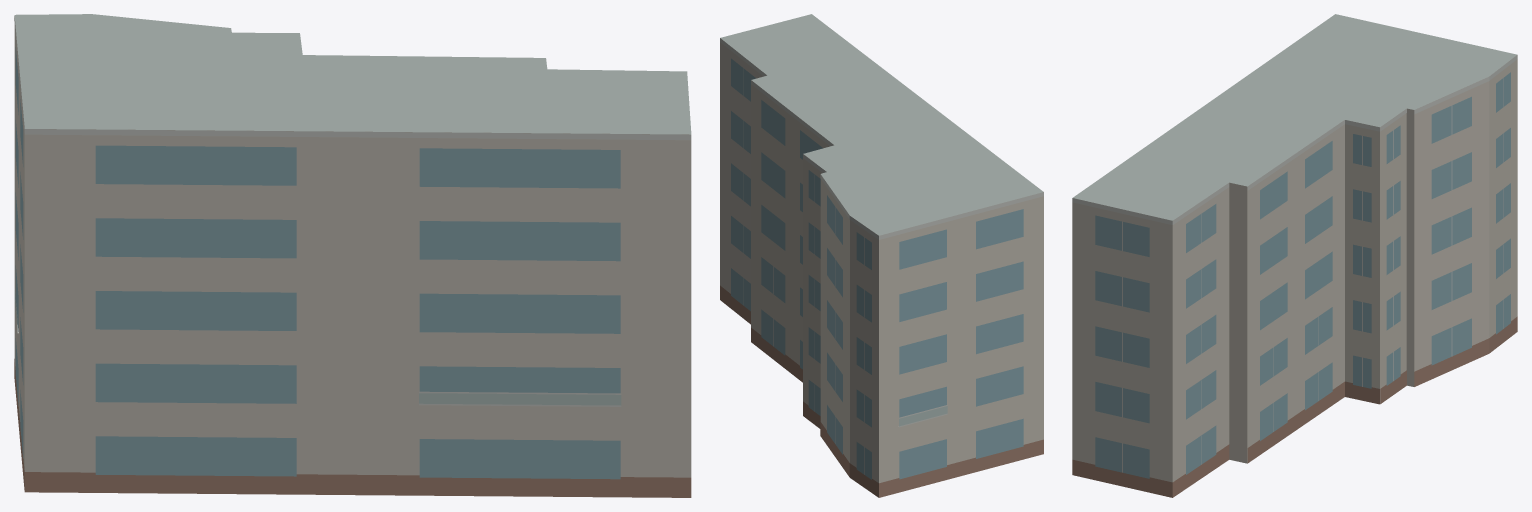
The model's file is survey-upis-32595631.glb.
The picture shows the model from 3 angles, left to right: view 1: azimuth 30°, elevation 25°; view 2: azimuth 150°, elevation 25°; view 3: azimuth 270°, elevation 25°; orthographic projection. The views are drawn at different scales.
Parts seen in each view (by area): view 1: survey-upis-32595631.tmp; view 2: survey-upis-32595631.tmp; view 3: survey-upis-32595631.tmp.
Part boxes in pixels (bbox=[...]): survey-upis-32595631.tmp: bbox=[14, 14, 691, 497]; survey-upis-32595631.tmp: bbox=[720, 14, 1043, 497]; survey-upis-32595631.tmp: bbox=[1072, 14, 1517, 497].
Size of the model in its own units: 24.41 by 15.25 by 22.21.
